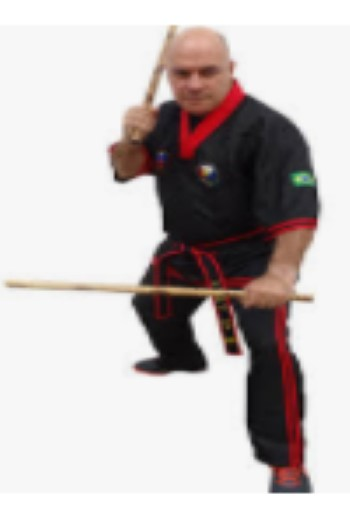baston_e: (9, 276, 304, 305), (142, 25, 179, 122)
baston_v: (288, 287, 319, 307), (125, 126, 144, 150), (1, 274, 17, 295)
